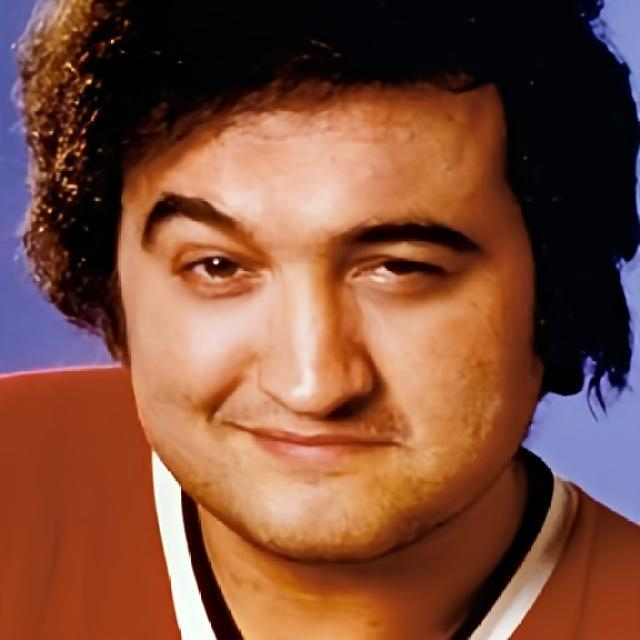content: (119, 76, 537, 564)
